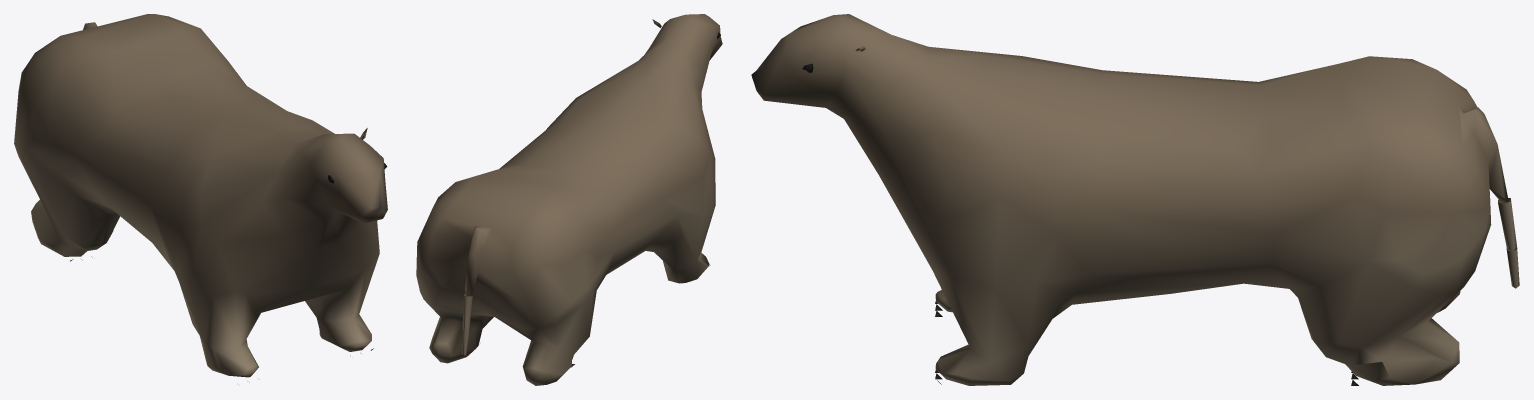
The model's file is murmeltier.glb.
The picture shows the model from 3 angles, left to right: view 1: azimuth 30°, elevation 25°; view 2: azimuth 150°, elevation 25°; view 3: azimuth 270°, elevation 25°; orthographic projection. The views are drawn at different scales.
Parts seen in each view (by area): view 1: lack; view 2: lack; view 3: lack.
Boxes of the visible parts, x1,y1,x2,y2 form: lack: (14,14,387,382); lack: (416,14,722,385); lack: (751,14,1519,385).
Size of the model in its own units: 0.2103 by 0.2658 by 0.565.
